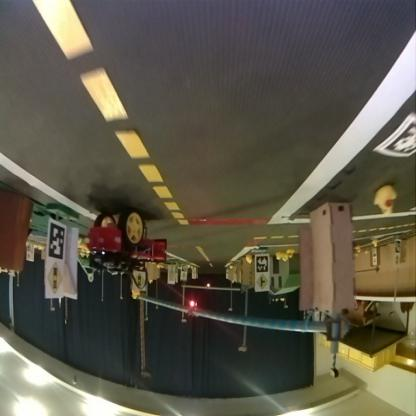Duckie: (373, 184, 394, 216), (286, 250, 292, 258), (245, 256, 251, 264), (275, 252, 280, 260), (374, 240, 378, 247)
Duckiebot: (90, 214, 166, 276)
Intersection sign: (257, 275, 268, 291)
QR code: (380, 116, 412, 156), (47, 224, 65, 256), (257, 258, 268, 270)
Signal sign: (46, 262, 61, 294)
Traffic light: (189, 300, 195, 308), (206, 282, 212, 288)
